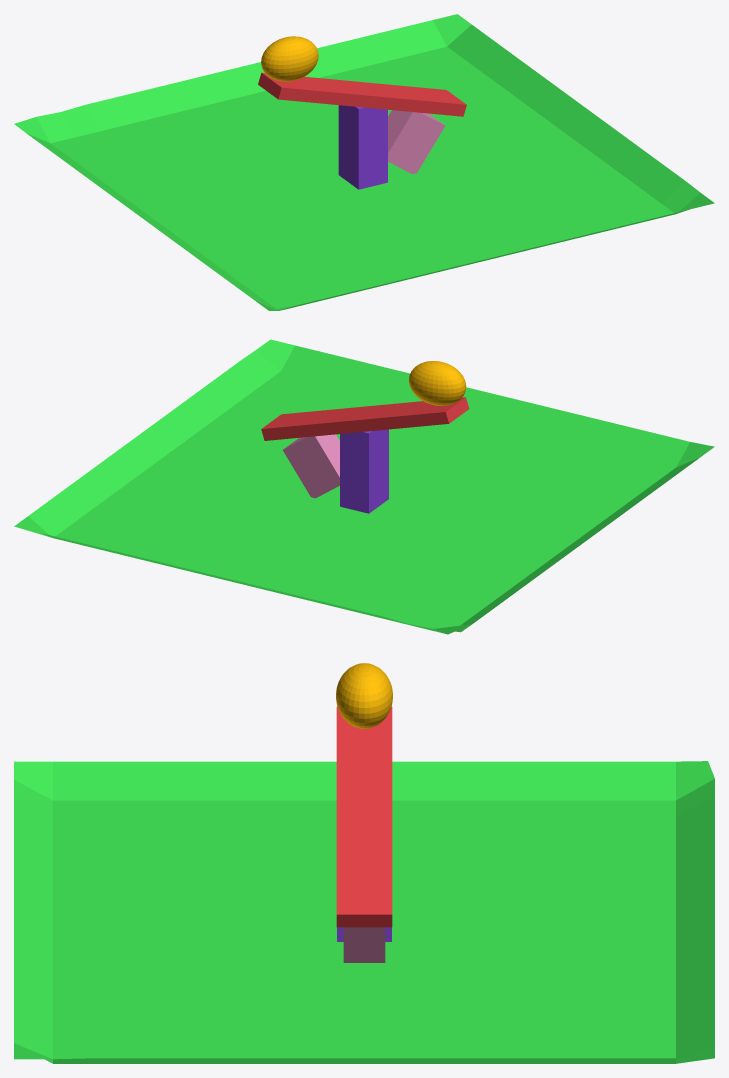
The model's file is grass1.fbx.
3 views of the same model, one above another, from view 1: azimuth 30°, elevation 25°; view 2: azimuth 150°, elevation 25°; view 3: azimuth 270°, elevation 25° (orthographic). The views are drawn at different scales.
Visible parts, largest first — view 1: Grid, Cube.002, Cube, Cube.001, Sphere; view 2: Grid, Cube.002, Cube, Cube.001, Sphere; view 3: Grid, Cube.002, Sphere, Cube.001.
Part boxes in pixels (x1,y1,x2,y2): Grid: [14, 14, 714, 310]; Cube.002: [258, 72, 466, 116]; Cube: [338, 105, 387, 189]; Cube.001: [388, 110, 444, 174]; Sphere: [261, 36, 318, 81]; Grid: [14, 339, 714, 634]; Cube.002: [261, 397, 469, 440]; Cube: [340, 429, 388, 513]; Cube.001: [283, 434, 339, 498]; Sphere: [409, 361, 466, 405]; Grid: [14, 761, 714, 1063]; Cube.002: [336, 706, 392, 927]; Sphere: [336, 663, 392, 728]; Cube.001: [343, 927, 385, 962].
Size of the model in its own units: 80 by 27.5 by 80.
